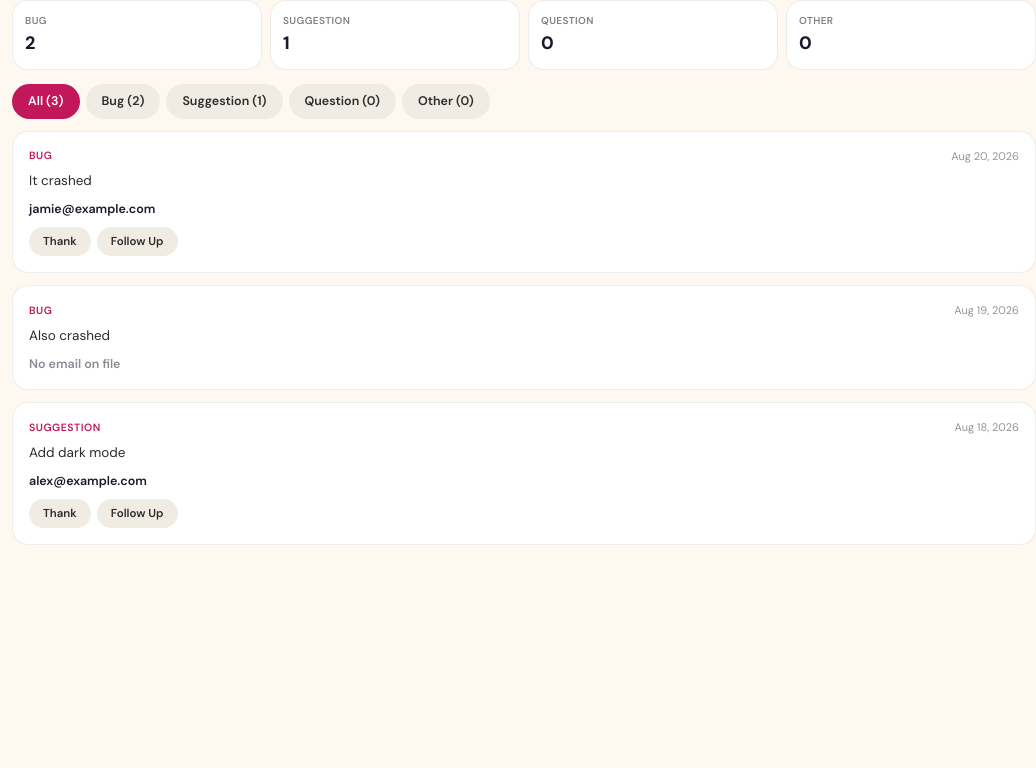
Scenario: FeedbackFeed › filters the list to only the selected type
Click the radio button labelled "Suggestion (1)" at [224, 101], box [166,84,282,119]
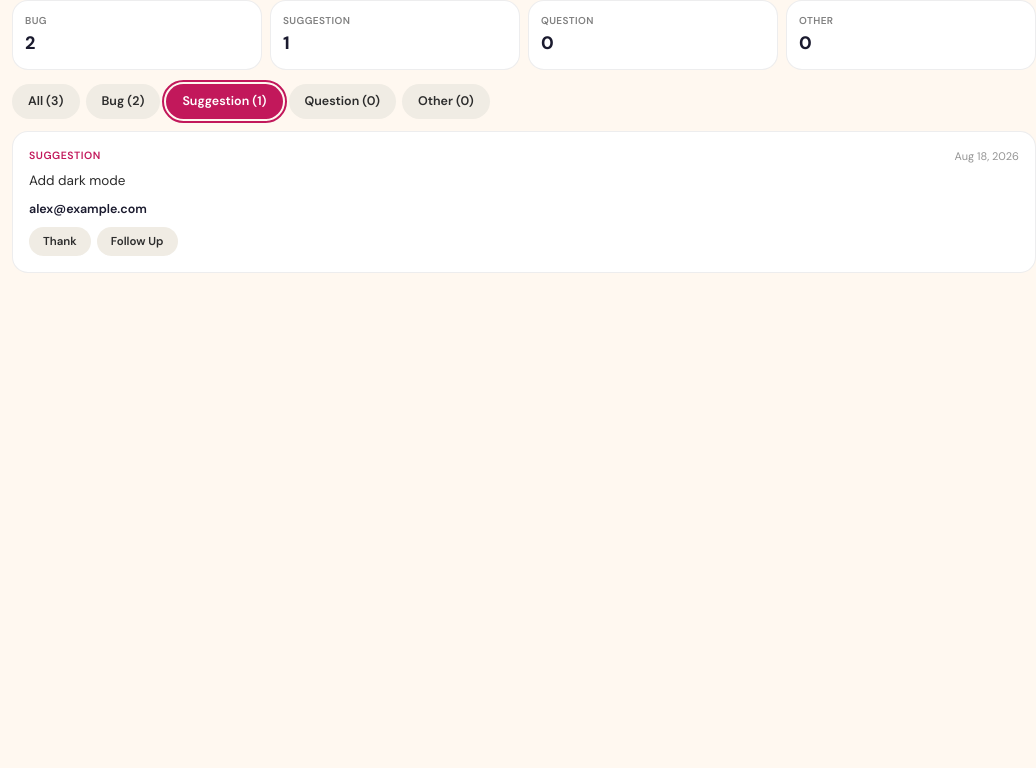
expect the text "Add dark mode" is shown: met, box [29,172,126,189]
expect the text "It crashed" is gone: met
expect the text "Also crashed" is gone: met
